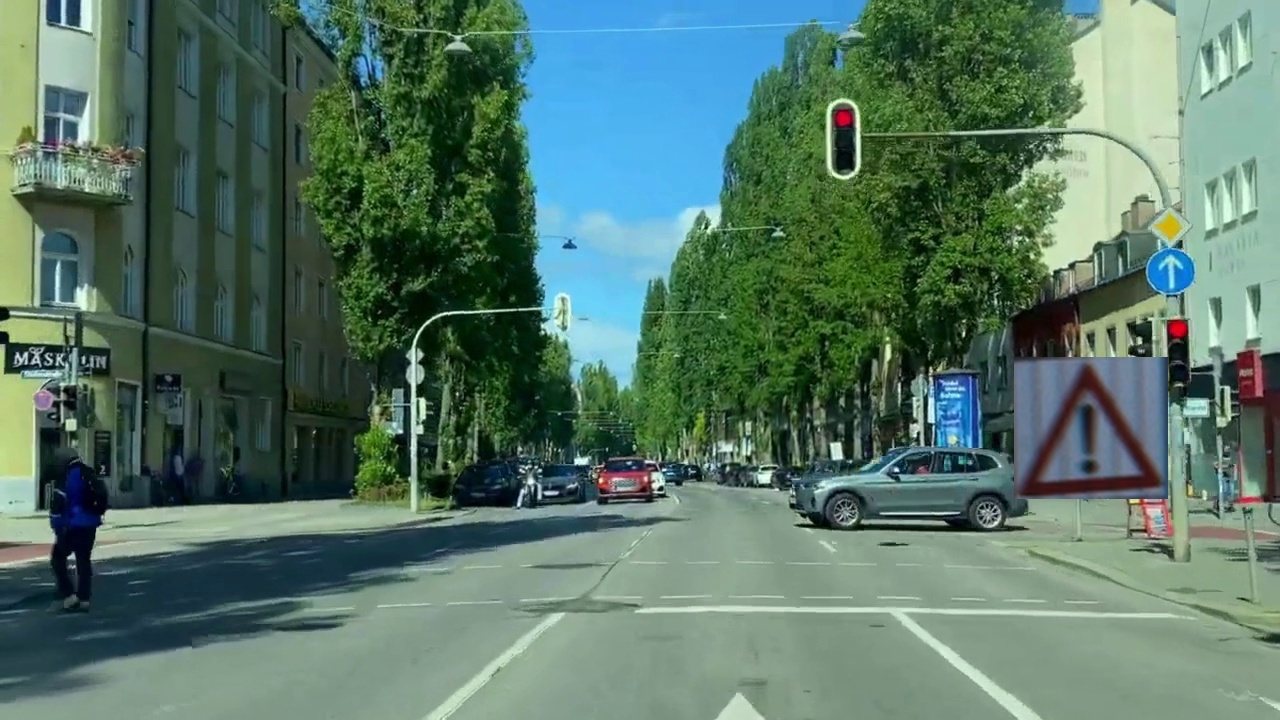Caution: (1014, 357, 1168, 499)
